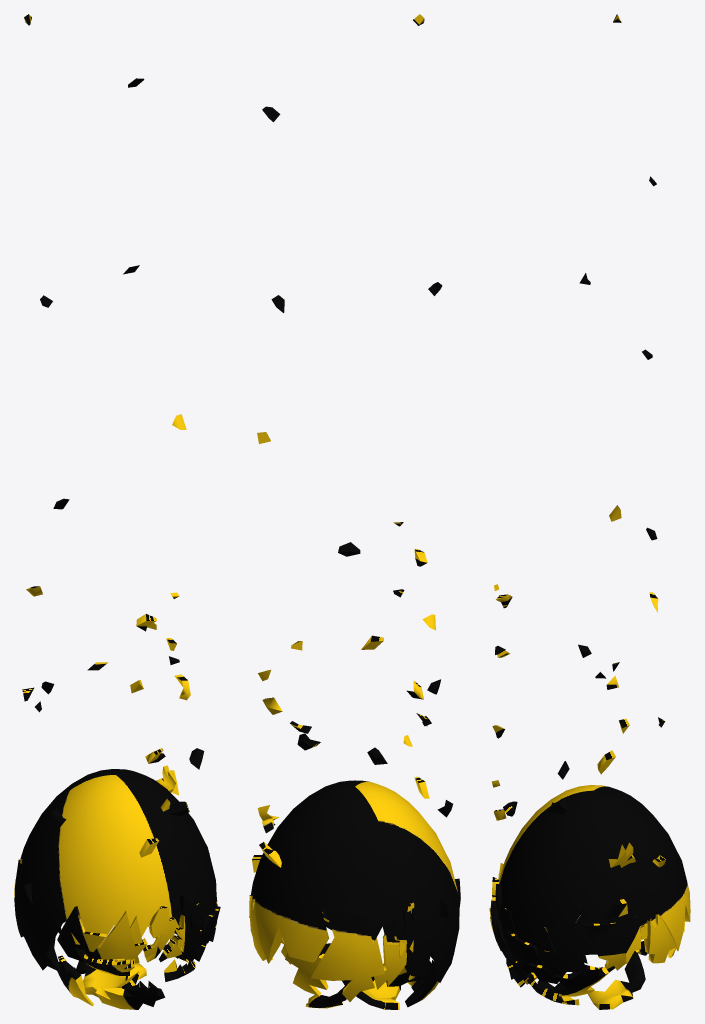
Rendered from mcdonalds_easter_demo_v4.gltf.
The picture shows the model from 3 angles, left to right: view 1: azimuth 30°, elevation 25°; view 2: azimuth 150°, elevation 25°; view 3: azimuth 270°, elevation 25°; orthographic projection. The views are drawn at different scales.
Visible parts, largest first — view 1: Sphere; view 2: Sphere; view 3: Sphere.
Boxes of the visible parts, x1,y1,x2,y2 form: Sphere: [14, 14, 220, 1009]; Sphere: [249, 14, 460, 1009]; Sphere: [489, 14, 690, 1009].
Bounding box in the file's own units: 141 × 734 × 142.
1 material, 1 textured.
